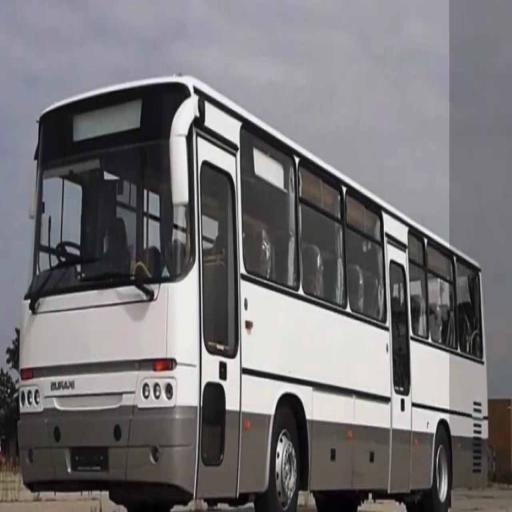onibus: (15, 71, 491, 512)
